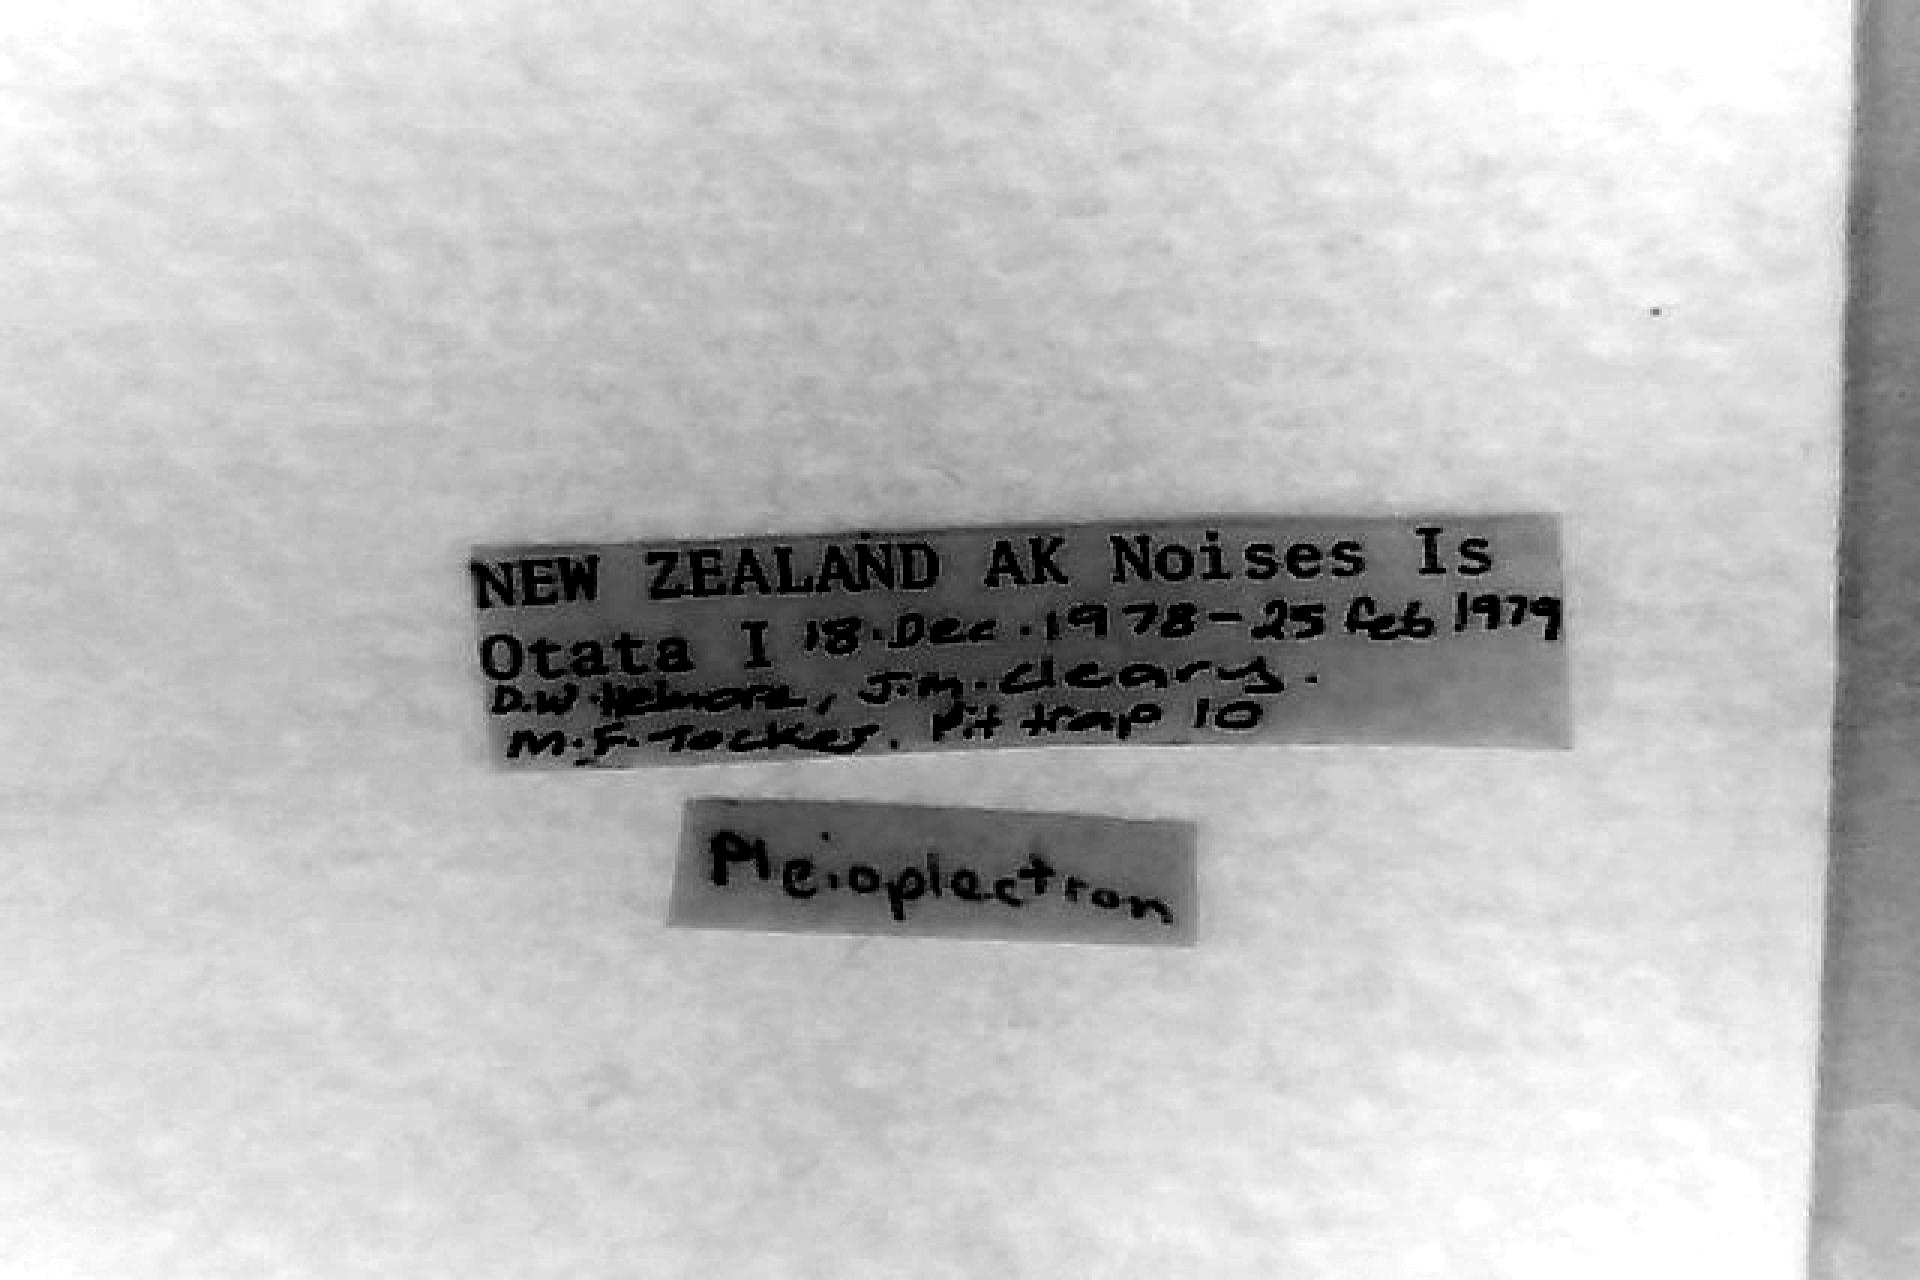hand_label: (671, 803, 1196, 941)
mixed_label: (469, 520, 1566, 769)
